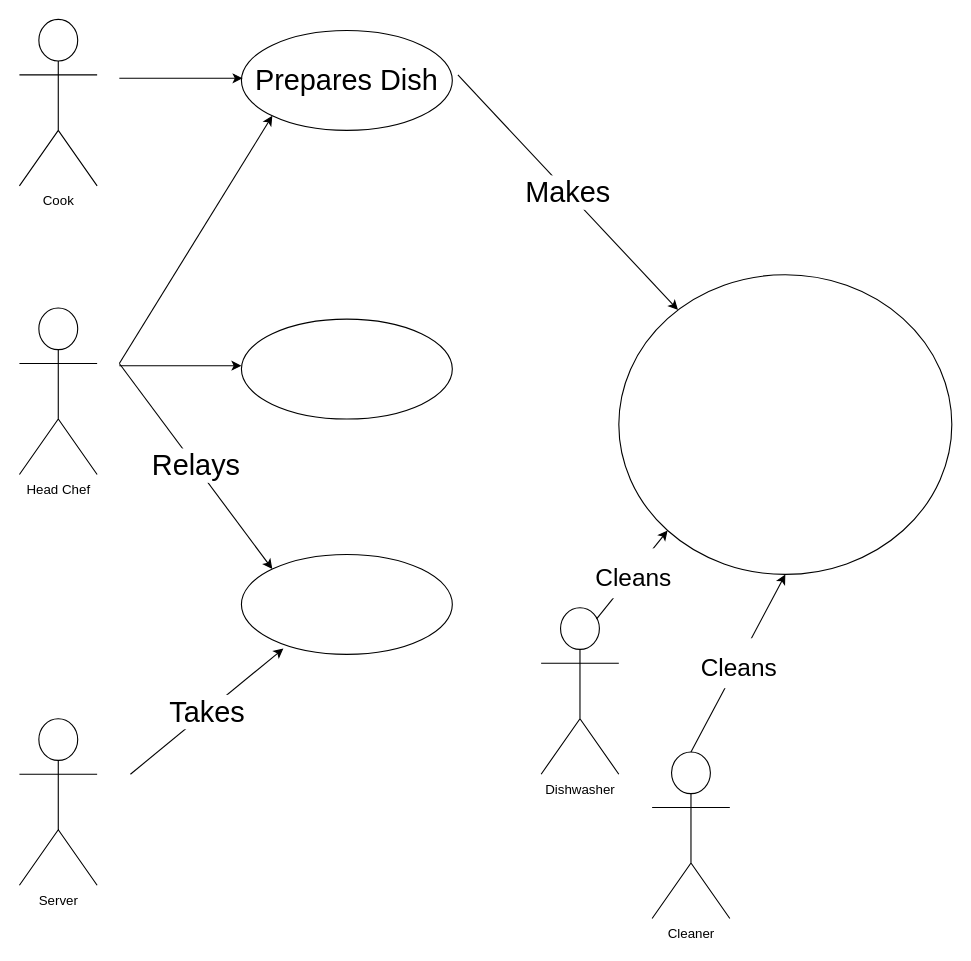
Image size: 971x961. Some labels were removed from this diagram. Each missing label, with the centre of its shape:
Makes Recipe: (x=346, y=368)
Mess: (x=785, y=424)
Order: (x=346, y=603)
